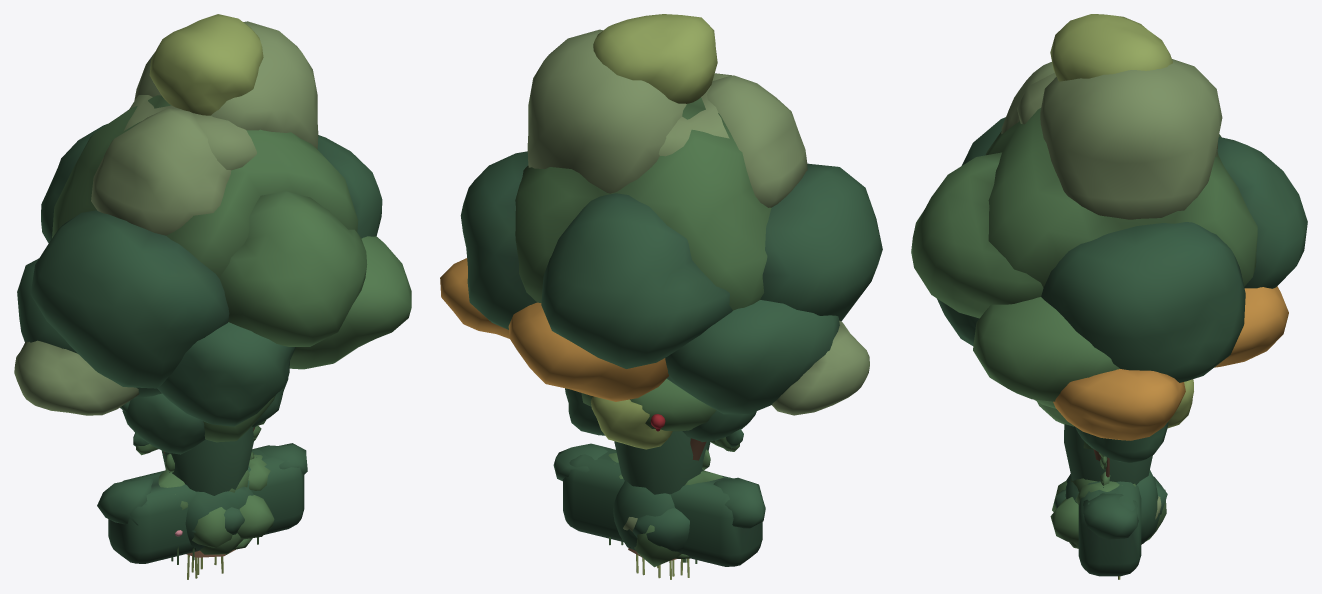
The model's file is foliage-kit.glb.
The picture shows the model from 3 angles, left to right: view 1: azimuth 30°, elevation 25°; view 2: azimuth 150°, elevation 25°; view 3: azimuth 270°, elevation 25°; orthographic projection.
Parts seen in each view (by area): view 1: TreeA, TreeC, TreeB, Hedge, TreePomegranate, Cypress, HedgeBall, ShrubRose, ShrubB, Ivy; view 2: TreeA, TreeC, Hedge, TreeB, TreePomegranate, Cypress, HedgeBall, ShrubRose, ShrubB; view 3: TreeA, TreeC, TreeB, Hedge, TreePomegranate, Cypress, HedgeBall, ShrubRose.
Part boxes in pixels (left/top/right/bottom): TreeA: left=30, top=21, right=382, bottom=388; TreeC: left=14, top=236, right=411, bottom=557; TreeB: left=124, top=14, right=263, bottom=170; Hedge: left=97, top=443, right=307, bottom=563; TreePomegranate: left=122, top=377, right=288, bottom=454; Cypress: left=161, top=426, right=253, bottom=495; HedgeBall: left=185, top=470, right=253, bottom=550; ShrubRose: left=192, top=495, right=274, bottom=554; ShrubB: left=192, top=507, right=232, bottom=547; Ivy: left=120, top=401, right=265, bottom=472; TreeA: left=460, top=29, right=882, bottom=368; TreeC: left=440, top=258, right=869, bottom=560; Hedge: left=553, top=443, right=765, bottom=566; TreeB: left=593, top=14, right=731, bottom=156; TreePomegranate: left=565, top=378, right=756, bottom=449; Cypress: left=614, top=431, right=710, bottom=494; HedgeBall: left=613, top=481, right=674, bottom=550; ShrubRose: left=632, top=508, right=689, bottom=553; ShrubB: left=634, top=525, right=681, bottom=567; TreeA: left=911, top=59, right=1307, bottom=382; TreeC: left=937, top=286, right=1288, bottom=544; TreeB: left=1017, top=14, right=1172, bottom=124; Hedge: left=1075, top=481, right=1141, bottom=576; TreePomegranate: left=1037, top=379, right=1193, bottom=462; Cypress: left=1064, top=424, right=1152, bottom=484; HedgeBall: left=1065, top=470, right=1159, bottom=544; ShrubRose: left=1050, top=476, right=1167, bottom=547.
Bounding box in the file's own units: 4.33 × 5.76 × 3.79.
